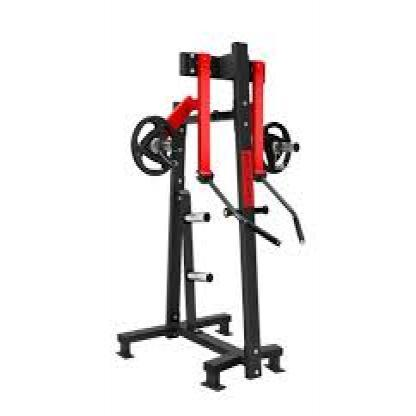lateral raises machine: (116, 41, 306, 391)
